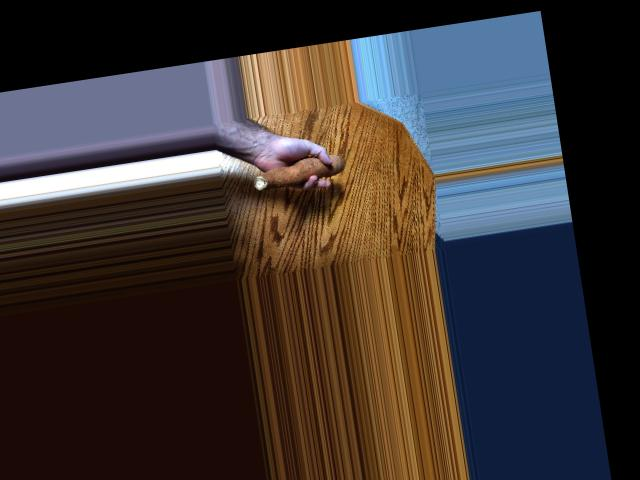sweet_potato: (248, 156, 352, 195)
